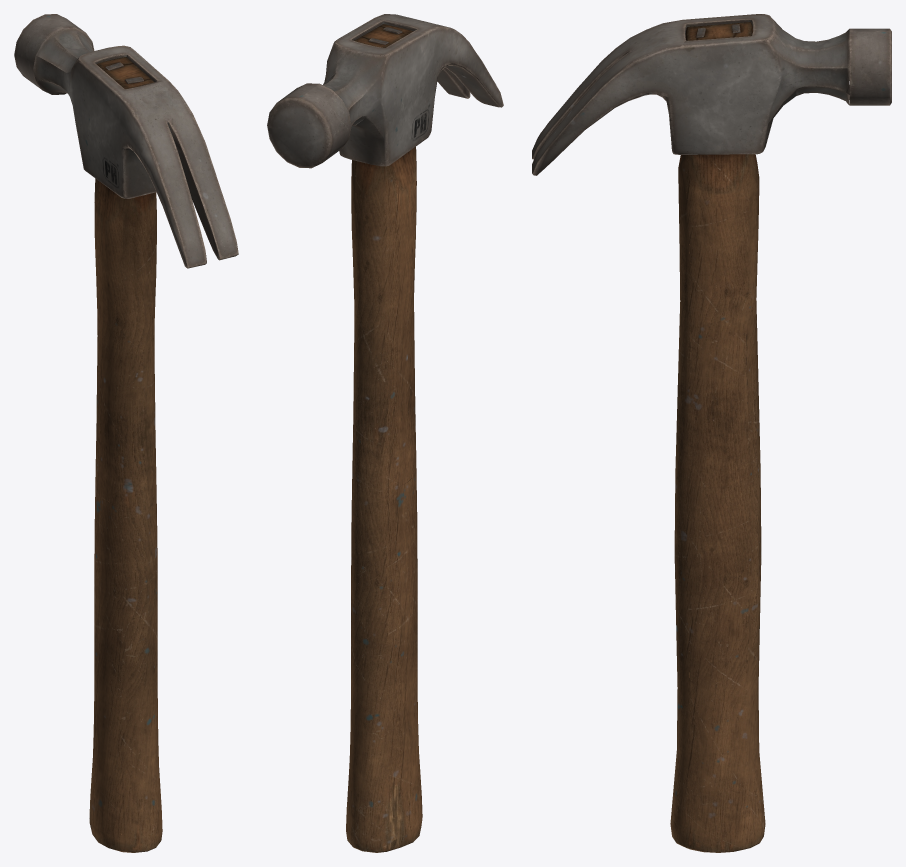
Rendered from hammer.glb.
The picture shows the model from 3 angles, left to right: view 1: azimuth 30°, elevation 25°; view 2: azimuth 150°, elevation 25°; view 3: azimuth 270°, elevation 25°; orthographic projection. The views are drawn at different scales.
Visible parts, largest first — view 1: Hammer; view 2: Hammer; view 3: Hammer.
Part boxes in pixels (box(x1,y1,x2,y2)): Hammer: box(14, 14, 238, 852); Hammer: box(267, 14, 503, 852); Hammer: box(532, 14, 891, 852).
Size of the model in its own units: 0.0294 by 0.3499 by 0.1402.
Materials: 1 (1 with a texture image).
